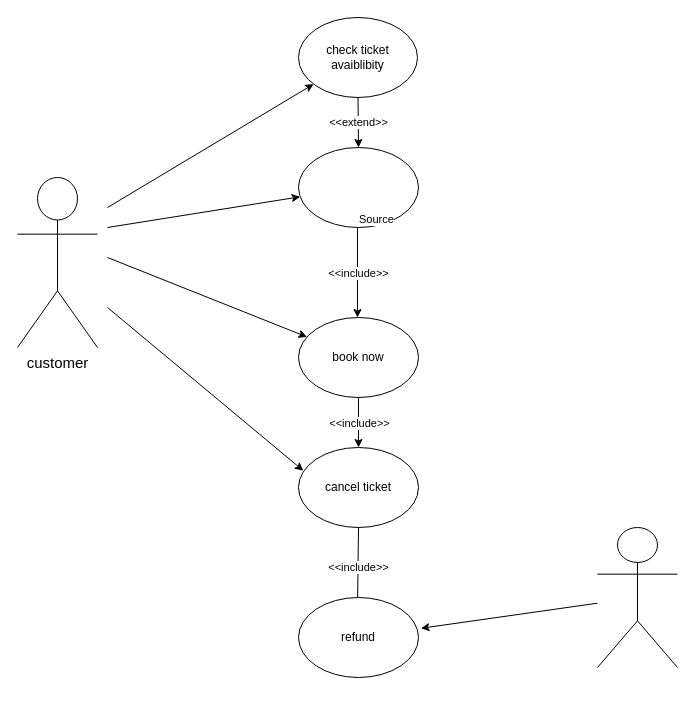
Image size: 695x710. Some labels were removed from this diagram. The shapes that lost their labels are listed below. From the top down, each one's centre as x and y in pixels, then its label:
At point (358, 187): "traveller detail &IRCTC login".
At point (637, 597): "admin".
